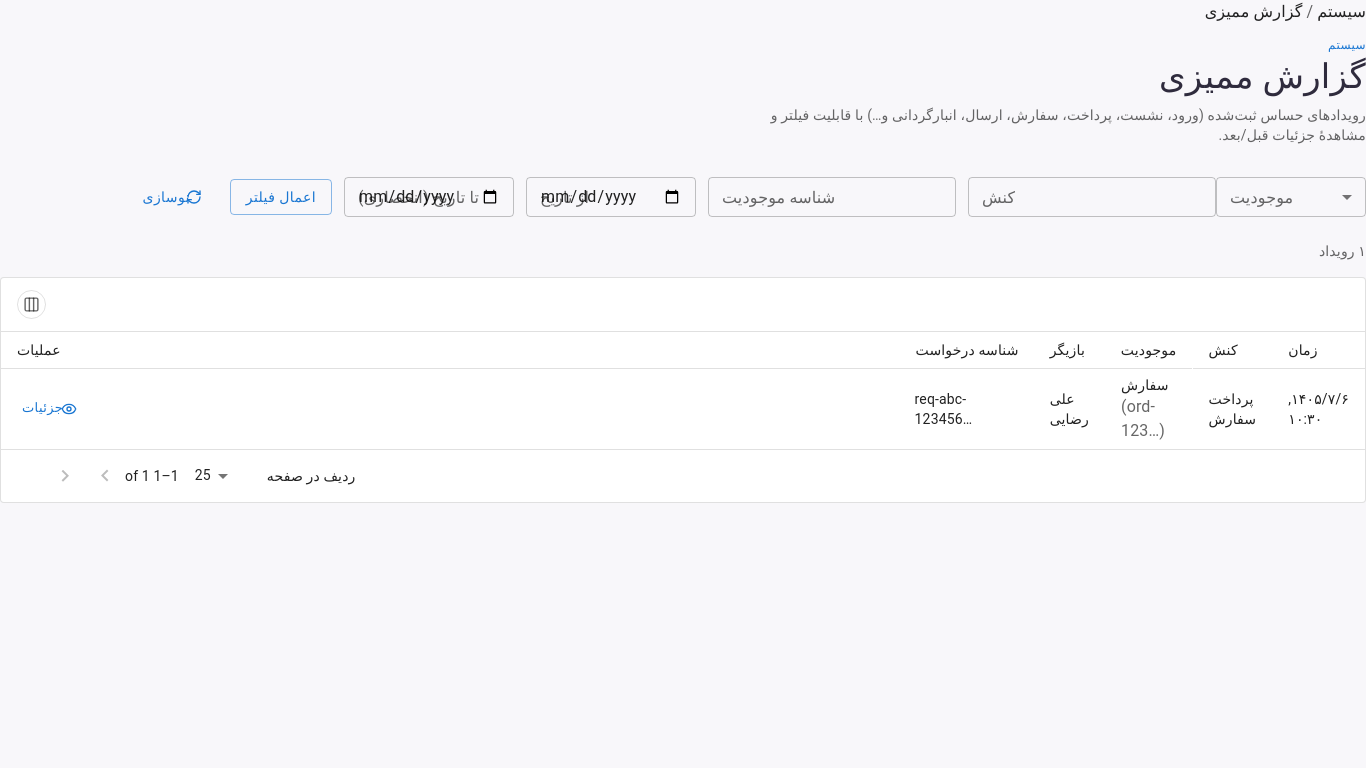
Test case: AuditLogsView › opens details showing before/after state for the selected event
Expected: the text "پرداخت سفارش" is shown, [1208,389,1256,429]
Click the button "جزئیات".
click(54, 409)  # box [17,394,90,424]
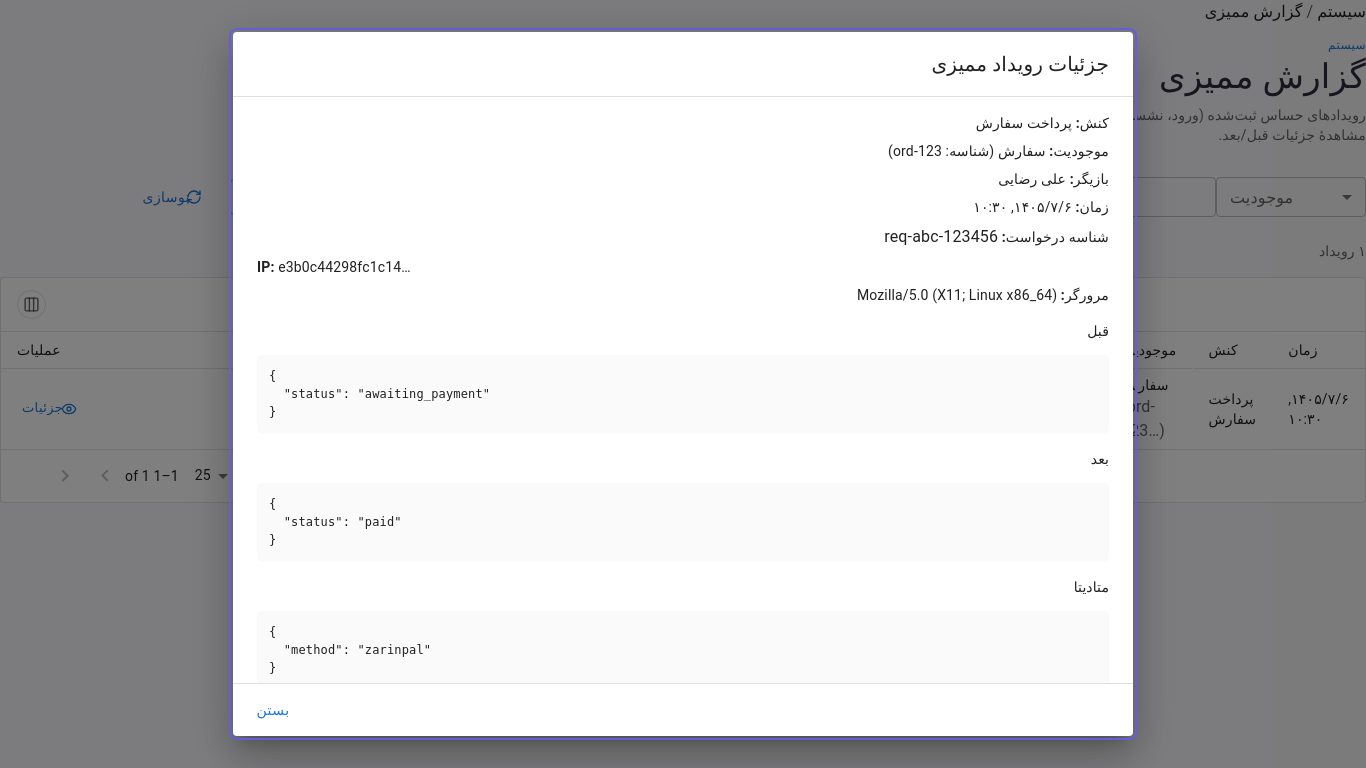
Now the text "{ \"status\": \"awaiting_payment\" }" is shown, box [257,355,1109,433]
Now the text "{ \"status\": \"paid\" }" is shown, box [257,483,1109,561]
